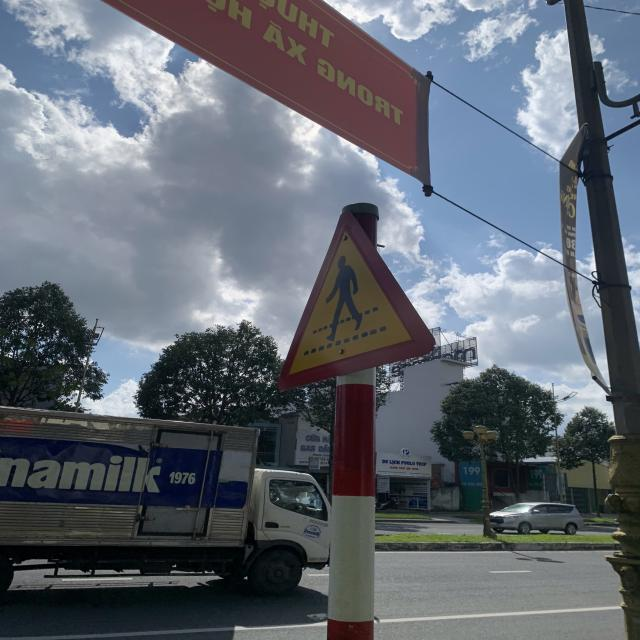Duong_Nguoi_Di_Bo_Sang_Ngang: (280, 215, 438, 398)
